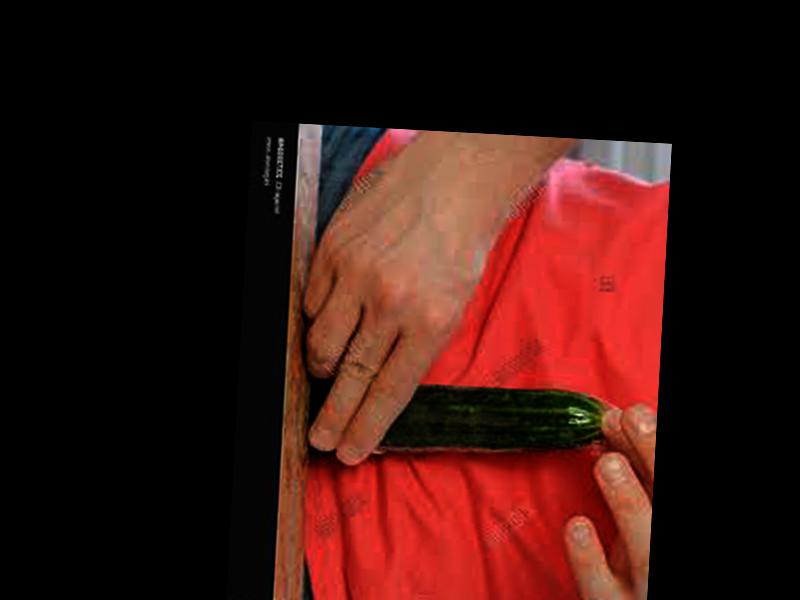Cucumber: (377, 379, 605, 461)
